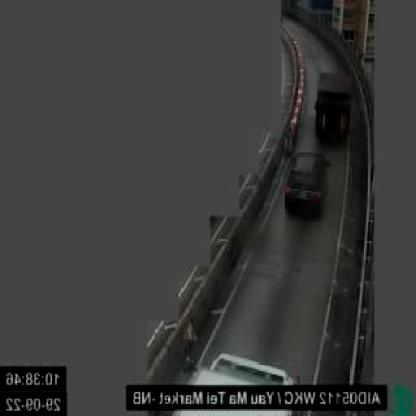Car: (274, 149, 338, 225)
Truck: (312, 68, 355, 152)
